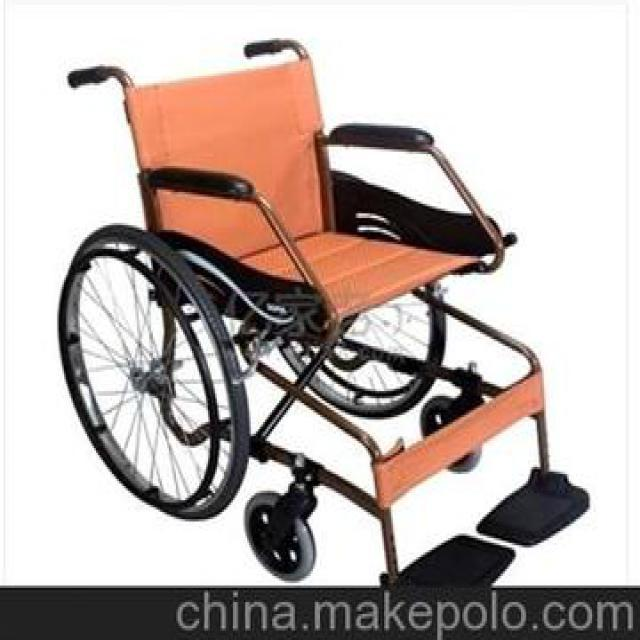wheelchair: (36, 28, 596, 588)
